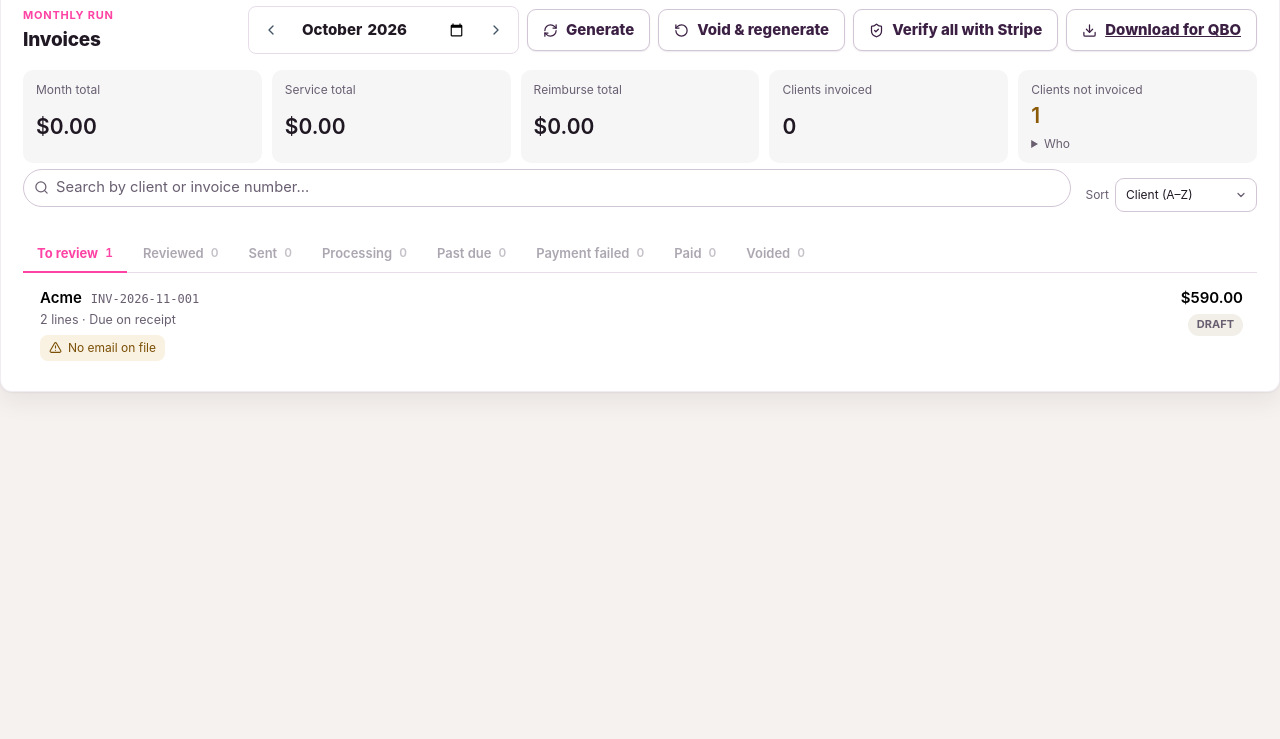
Scenario: InvoiceMonthRun — confirming the covered dates › flags the line and says why it is asking
Click the text "INV-2026-11-001" at (145, 300), box [91, 291, 199, 309]
(page scrolled)
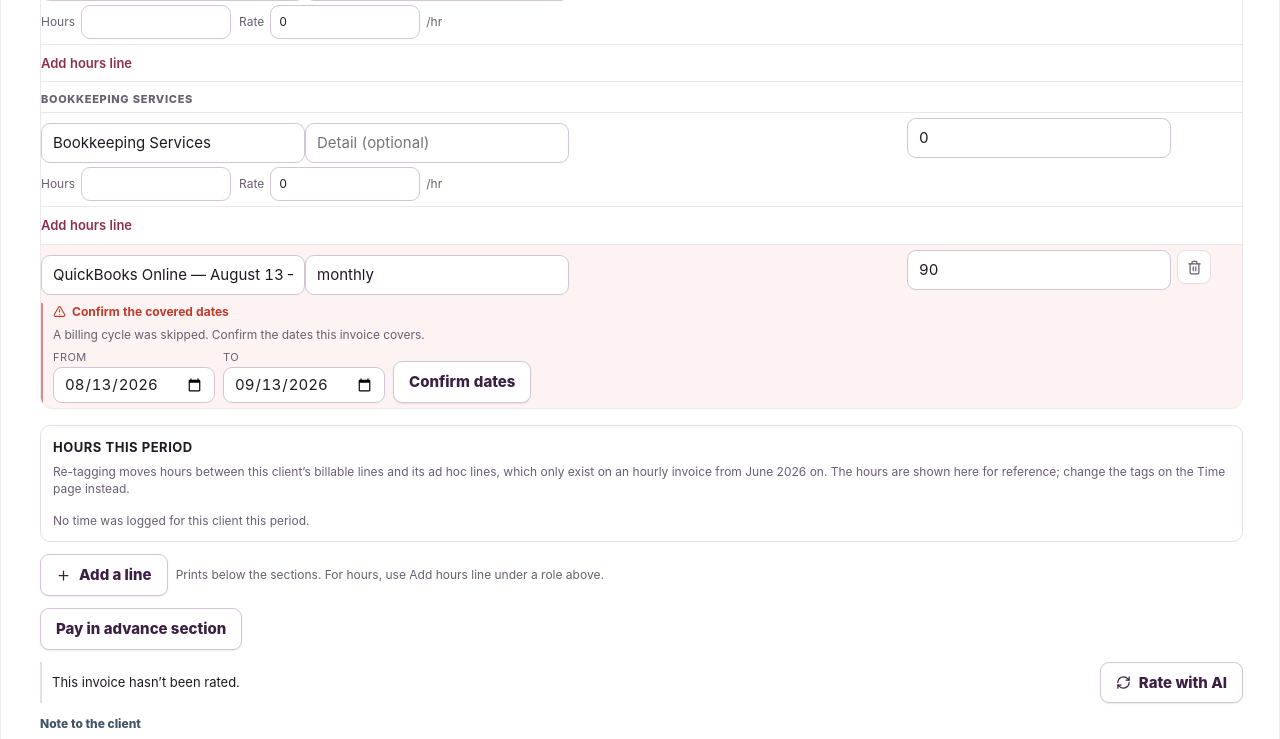
Check: the text "Confirm the covered dates" is shown, box [53, 304, 229, 319]
Check: the text "A billing cycle was skipped. Confirm the dates this invoice covers." is shown, box [53, 327, 425, 342]
Check: the date field named "Covered period start" holds "2026-08-13", box [53, 368, 215, 403]
